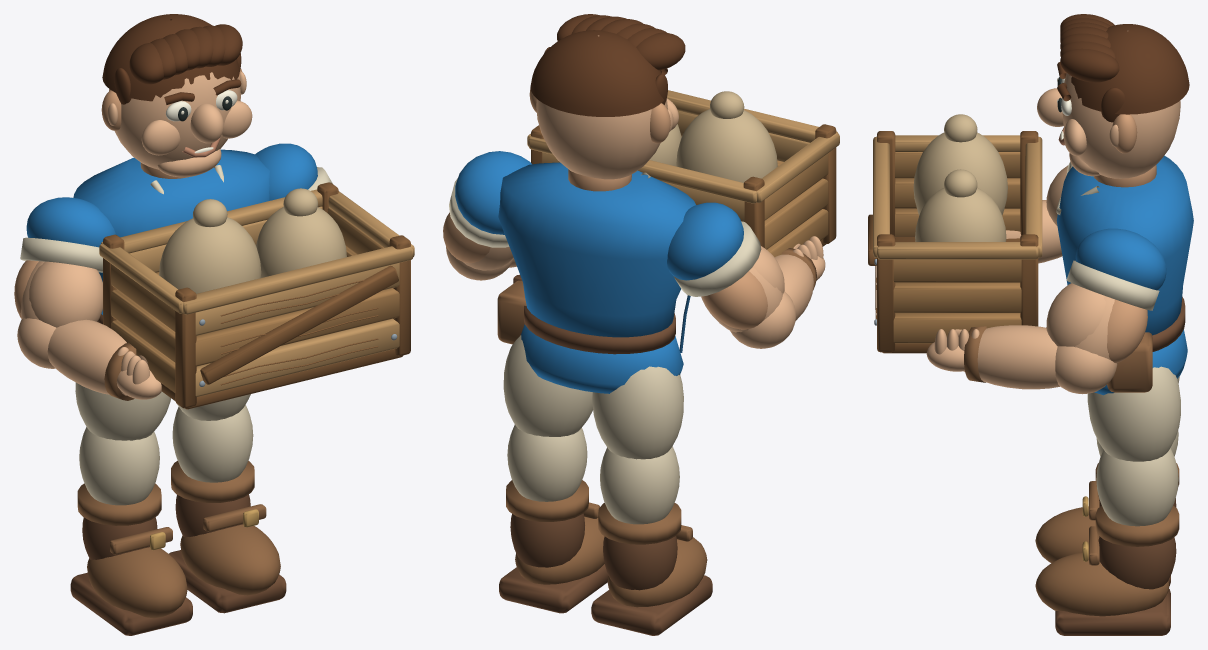
The model's file is drager.glb.
3 renders of one model, left to right at view 1: azimuth 30°, elevation 25°; view 2: azimuth 150°, elevation 25°; view 3: azimuth 270°, elevation 25°, orthographic.
Parts seen in each view (by area): view 1: TEAM_Athletic_torso, Cargo_sack, Cargo_front_back_slat, Boot_toe, Boot_toe.001, Trouser_calf, Trouser_calf.001, Cargo_sack.001, Head, Cargo_top_rim, Cargo_front_back_slat.002, Cargo_diagonal_brace (+43 smaller); view 2: TEAM_Athletic_torso, Hair_cap, Trouser_thigh, Head, Cargo_sack, TEAM_Tunic_hem, Trouser_thigh.001, Trouser_calf, Trouser_calf.001, TEAM_Short_sleeve, TEAM_Short_sleeve.001, Boot_shaft (+34 smaller); view 3: TEAM_Athletic_torso, Hair_cap, Trouser_thigh.001, Boot_toe.001, Head, Trouser_calf.001, Strong_forearm.001, Cargo_sack, Cargo_side_slat.003, Cargo_sack.001, TEAM_Short_sleeve.001, Cargo_side_slat.005 (+37 smaller).
Boxes of the visible parts, x1,y1,x2,y2 form: TEAM_Athletic_torso: [73, 149, 269, 314]; Cargo_sack: [159, 217, 261, 293]; Cargo_front_back_slat: [195, 318, 399, 396]; Boot_toe: [87, 547, 187, 618]; Boot_toe.001: [180, 524, 280, 595]; Trouser_calf: [79, 427, 159, 505]; Trouser_calf.001: [172, 404, 253, 482]; Cargo_sack.001: [256, 207, 346, 277]; Head: [109, 72, 240, 169]; Cargo_top_rim: [183, 246, 413, 314]; Cargo_front_back_slat.002: [195, 288, 399, 366]; Cargo_diagonal_brace: [200, 265, 398, 384]; TEAM_Athletic_torso: [498, 162, 695, 337]; Hair_cap: [530, 30, 663, 116]; Trouser_thigh: [592, 366, 683, 459]; Head: [536, 35, 667, 179]; Cargo_sack: [676, 109, 777, 182]; TEAM_Tunic_hem: [521, 324, 683, 393]; Trouser_thigh.001: [503, 335, 592, 436]; Trouser_calf: [600, 446, 679, 524]; Trouser_calf.001: [507, 424, 587, 501]; TEAM_Short_sleeve: [667, 202, 743, 280]; TEAM_Short_sleeve.001: [455, 151, 531, 234]; Boot_shaft: [603, 536, 677, 590]; TEAM_Athletic_torso: [1056, 155, 1193, 335]; Hair_cap: [1069, 24, 1189, 114]; Trouser_thigh.001: [1087, 366, 1180, 461]; Boot_toe.001: [1035, 551, 1169, 616]; Head: [1062, 30, 1180, 178]; Trouser_calf.001: [1096, 448, 1178, 526]; Strong_forearm.001: [964, 325, 1059, 389]; Cargo_sack: [913, 132, 1007, 215]; Cargo_side_slat.003: [893, 282, 1021, 313]; Cargo_sack.001: [915, 187, 1006, 241]; TEAM_Short_sleeve.001: [1075, 228, 1166, 290]; Cargo_side_slat.005: [893, 259, 1021, 282].
Size of the model in its own units: 1.29 by 2.06 by 1.07.
